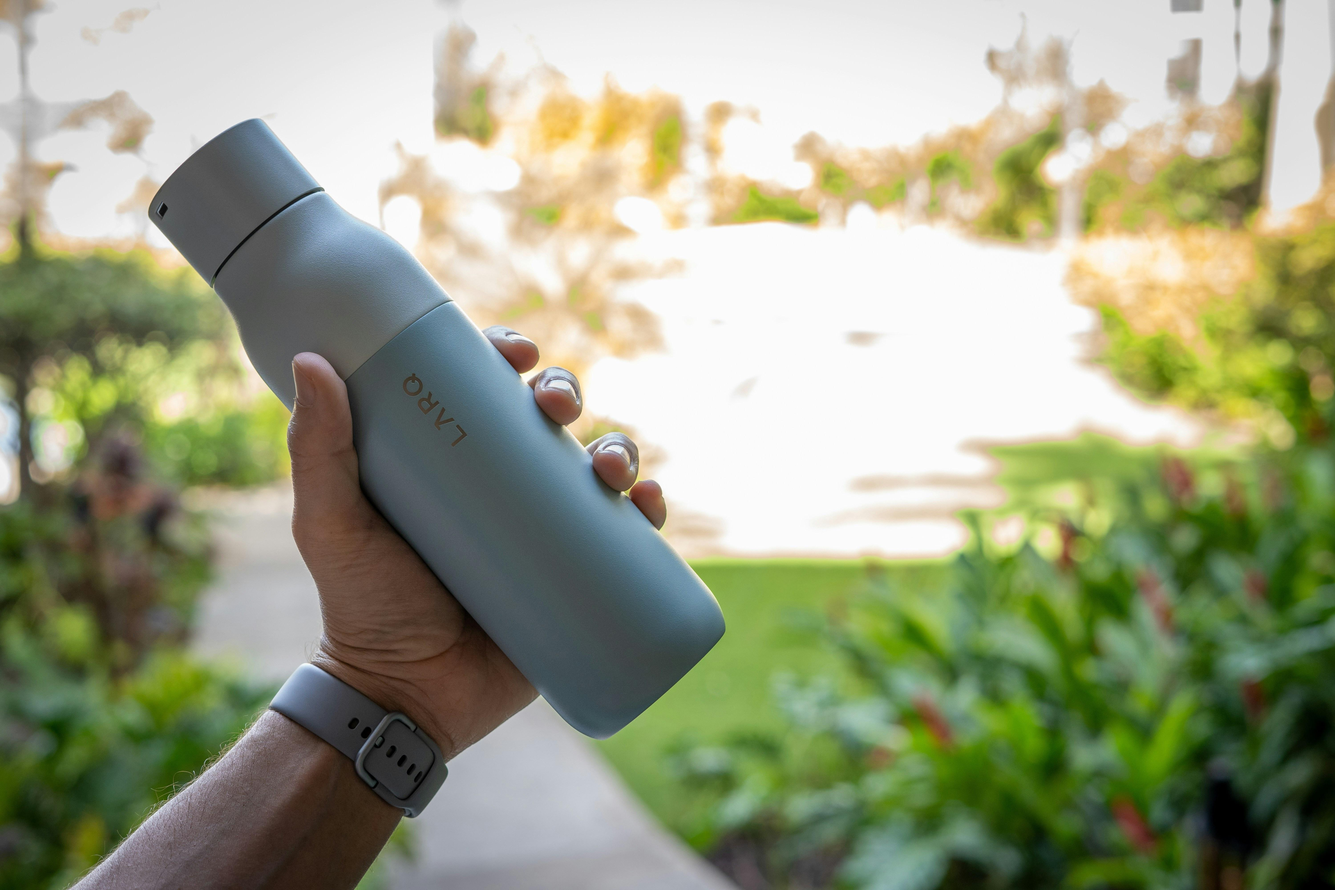Bottle-Detection: (109, 78, 810, 759)
